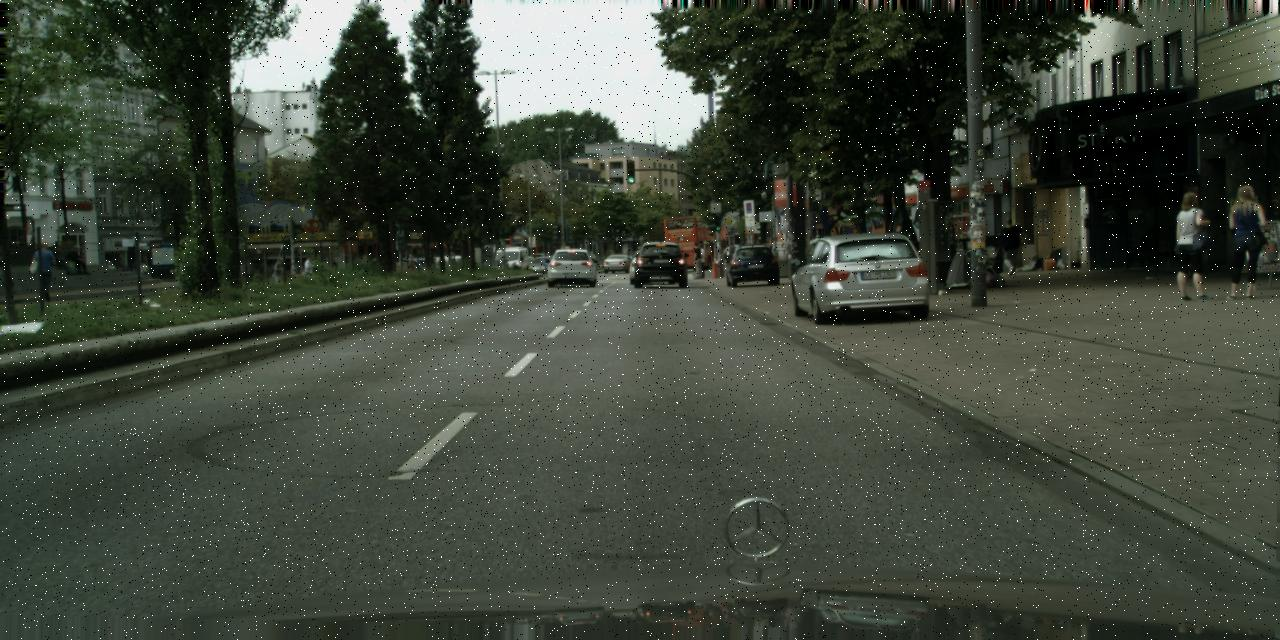ped: (1220, 184, 1267, 300), (1170, 192, 1214, 300), (999, 218, 1022, 276), (808, 233, 823, 273), (688, 242, 704, 278), (694, 244, 708, 277), (726, 242, 736, 266)
